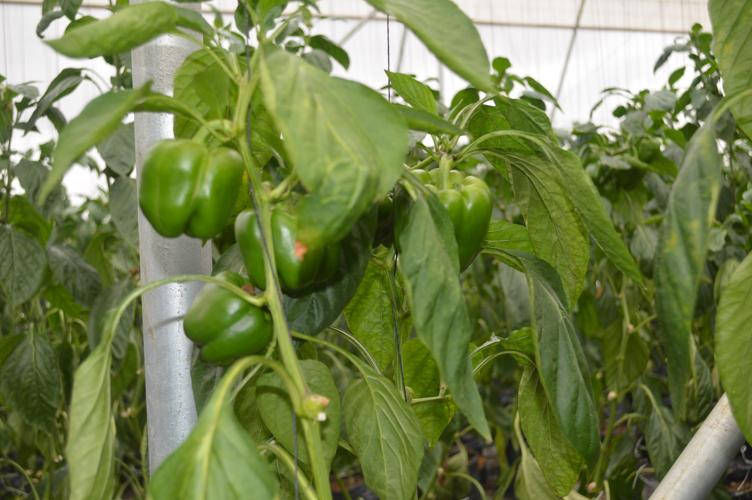BellPepper: (391, 165, 495, 271), (134, 135, 236, 237), (239, 198, 341, 298), (161, 282, 275, 365)
